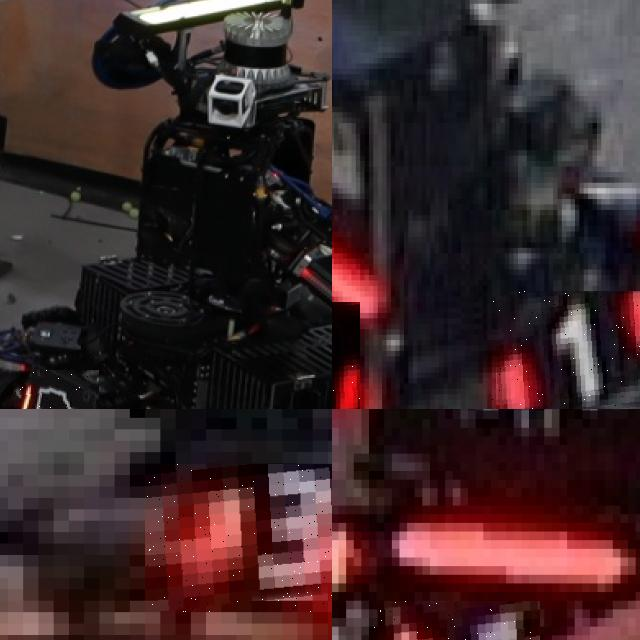R1: (492, 291, 640, 409), (372, 600, 540, 640)
R3: (145, 463, 332, 612)
Rs: (13, 370, 99, 409)
